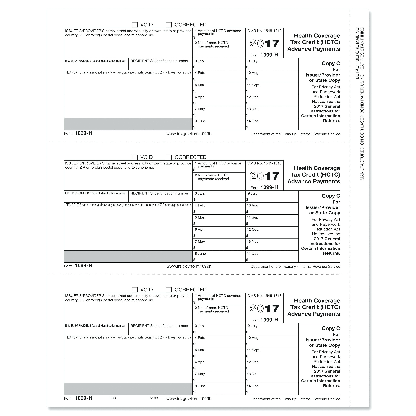checkbox: (131, 153, 139, 162), (165, 153, 173, 162), (165, 286, 173, 294), (131, 21, 138, 30), (131, 285, 138, 294), (165, 21, 172, 29)
textbox: (63, 68, 194, 120), (63, 201, 194, 253), (63, 333, 194, 385), (63, 26, 194, 60), (63, 291, 194, 325), (63, 159, 194, 192), (192, 38, 247, 58), (192, 172, 247, 192), (192, 304, 247, 324), (63, 56, 131, 72), (127, 56, 195, 72), (63, 321, 130, 336), (127, 321, 194, 336), (244, 225, 301, 240), (244, 248, 301, 263), (191, 249, 248, 264), (190, 291, 247, 306), (191, 322, 248, 337), (243, 321, 300, 336), (191, 382, 248, 397), (244, 93, 300, 108), (244, 105, 300, 120), (244, 116, 300, 131), (191, 116, 247, 131), (191, 105, 247, 120), (191, 213, 247, 228), (245, 214, 301, 229), (191, 225, 247, 240), (191, 237, 247, 252), (244, 237, 300, 252), (191, 346, 247, 361), (245, 346, 301, 361), (245, 357, 301, 372), (192, 358, 248, 373), (191, 369, 247, 384), (245, 382, 301, 397), (192, 382, 248, 397), (192, 26, 247, 41), (192, 56, 247, 71), (192, 68, 247, 83), (245, 56, 300, 71), (245, 68, 300, 83), (245, 81, 300, 96), (192, 189, 247, 204), (191, 158, 246, 173), (245, 189, 300, 204), (245, 202, 300, 217), (192, 201, 247, 216), (192, 80, 246, 95), (193, 92, 247, 107), (191, 334, 248, 348), (245, 334, 301, 348), (244, 370, 300, 384)
